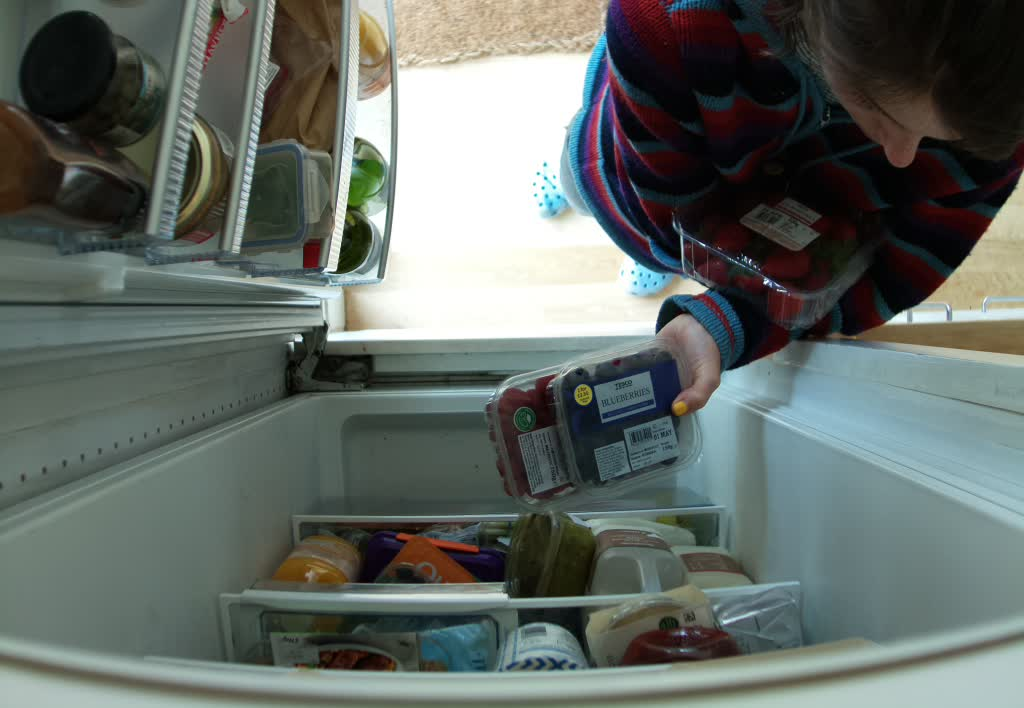soft-fruit: (482, 340, 703, 510), (673, 189, 870, 333), (547, 345, 703, 494)
